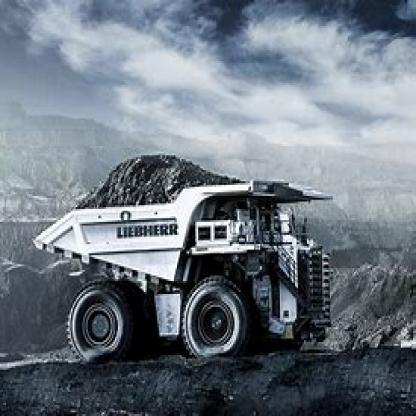dump_truck: (33, 140, 333, 368)
